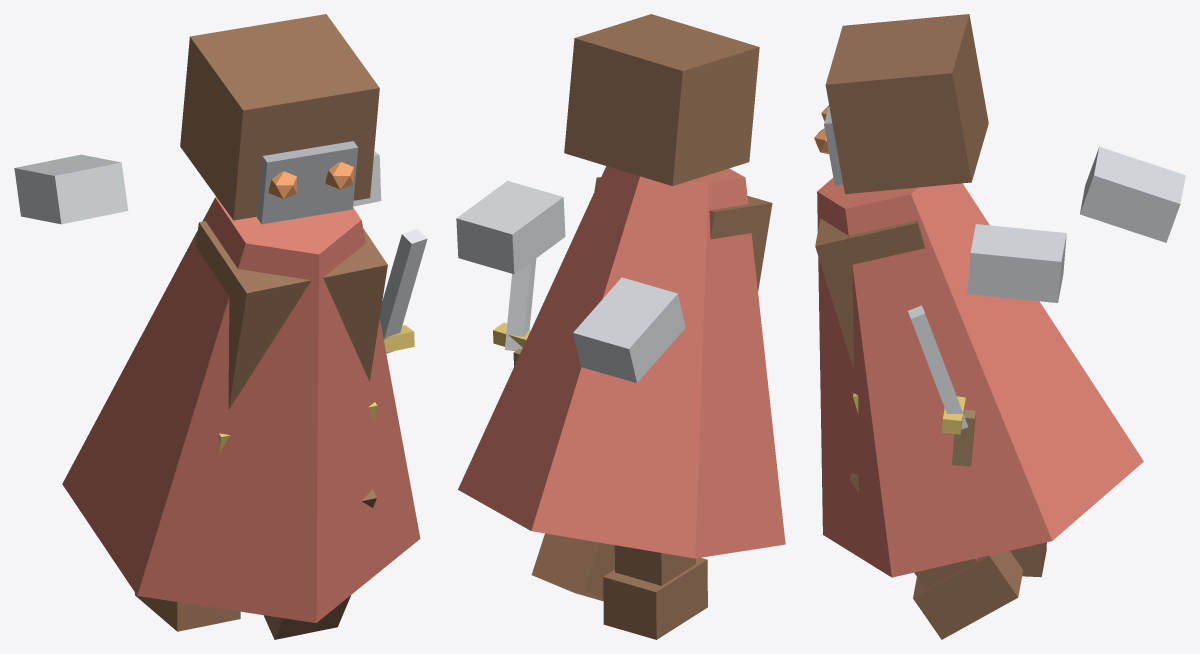
Rendered from npcpose_raider_walk_11.glb.
3 views of the same model, side by side, from view 1: azimuth 30°, elevation 25°; view 2: azimuth 150°, elevation 25°; view 3: azimuth 270°, elevation 25° (orthographic). The views are drawn at different scales.
Visible parts, largest first — view 1: npcpose; view 2: npcpose; view 3: npcpose.
Part boxes in pixels (x1,y1,x2,y2): npcpose: (14, 14, 427, 639); npcpose: (456, 14, 785, 639); npcpose: (814, 14, 1185, 639).
Size of the model in its own units: 0.8232 by 1.64 by 0.9766.
